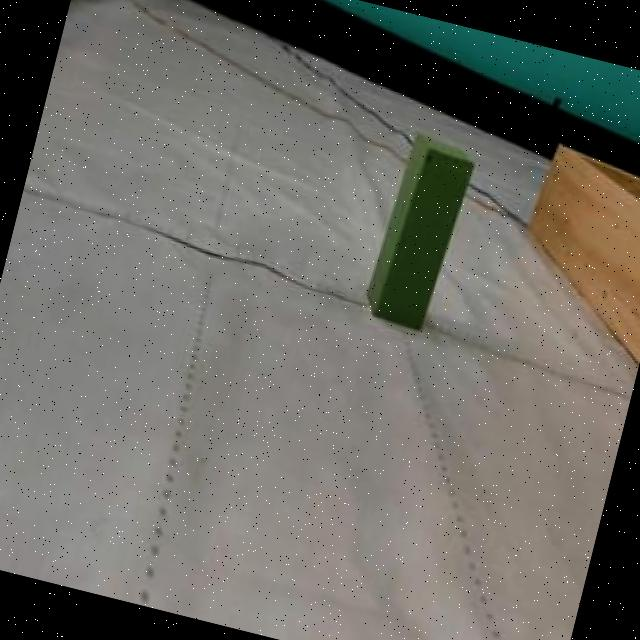greenbox: (366, 130, 482, 333)
